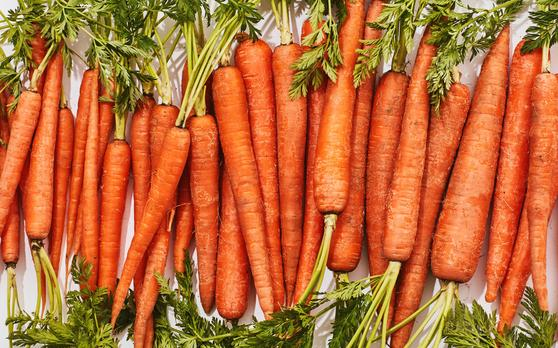carrot: (208, 68, 271, 309), (447, 43, 500, 286), (383, 41, 432, 264), (272, 41, 312, 301), (315, 13, 359, 218), (98, 131, 130, 312)
